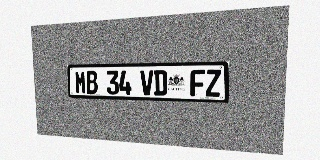3: (106, 70, 119, 95)
4: (119, 70, 131, 95)
B: (86, 71, 98, 94)
D: (154, 70, 167, 96)
F: (190, 70, 205, 96)
M: (75, 71, 86, 94)
V: (140, 70, 153, 95)
Z: (205, 69, 221, 97)
